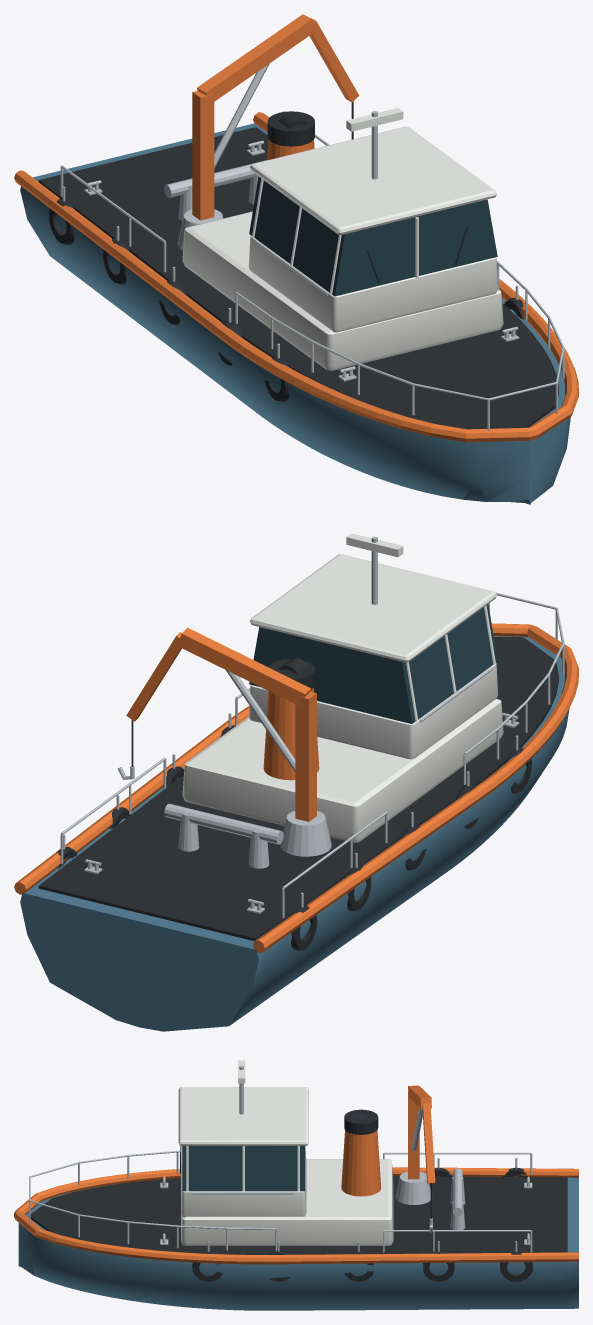
File: transport-collection-hd-crane-work-tug-73f3c036__18740.glb
3 views of the same model, one above another, from view 1: azimuth 30°, elevation 25°; view 2: azimuth 150°, elevation 25°; view 3: azimuth 270°, elevation 25° (orthographic). The views are drawn at different scales.
Visible parts, largest first — view 1: crane-work-tug, crane-pedestal, crane-boom, crane-jib; view 2: crane-work-tug, crane-boom, crane-pedestal, crane-jib; view 3: crane-work-tug, crane-pedestal, crane-jib, crane-boom.
Part boxes in pixels (x1,y1,x2,y2): crane-work-tug: (14, 63, 578, 504); crane-pedestal: (192, 90, 214, 220); crane-boom: (197, 14, 315, 101); crane-jib: (309, 17, 359, 102); crane-work-tug: (14, 533, 578, 1031); crane-boom: (177, 627, 310, 706); crane-pedestal: (295, 691, 316, 821); crane-jib: (126, 632, 181, 721); crane-work-tug: (14, 1060, 578, 1310); crane-pedestal: (408, 1087, 419, 1179); crane-jib: (422, 1103, 435, 1183); crane-boom: (408, 1085, 431, 1108).
Bounding box in the file's own units: 4.4 × 5.01 × 11.29.
